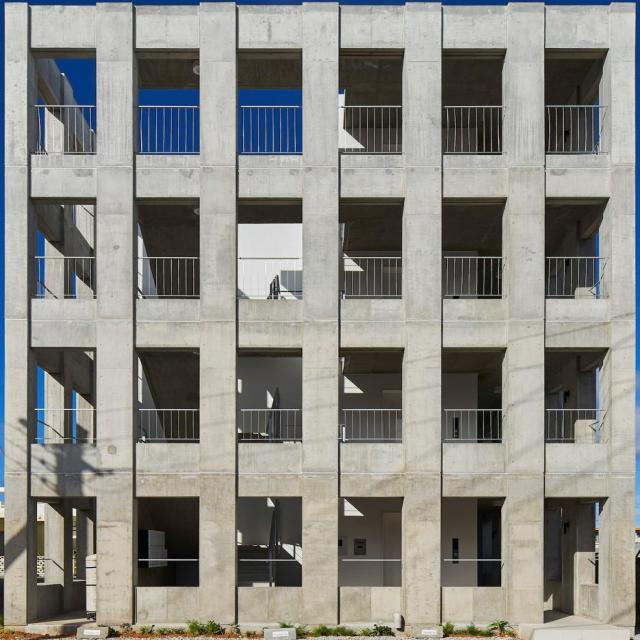railing: (131, 103, 198, 153), (29, 103, 94, 153), (234, 104, 302, 150), (438, 106, 500, 153), (544, 103, 606, 150), (236, 258, 307, 299), (440, 254, 505, 297), (33, 254, 94, 299), (338, 104, 397, 148), (543, 256, 600, 300), (341, 256, 400, 298), (137, 255, 196, 296), (238, 404, 299, 441), (440, 406, 504, 441), (338, 406, 399, 441), (31, 410, 95, 442), (545, 407, 604, 441), (139, 407, 195, 440)
